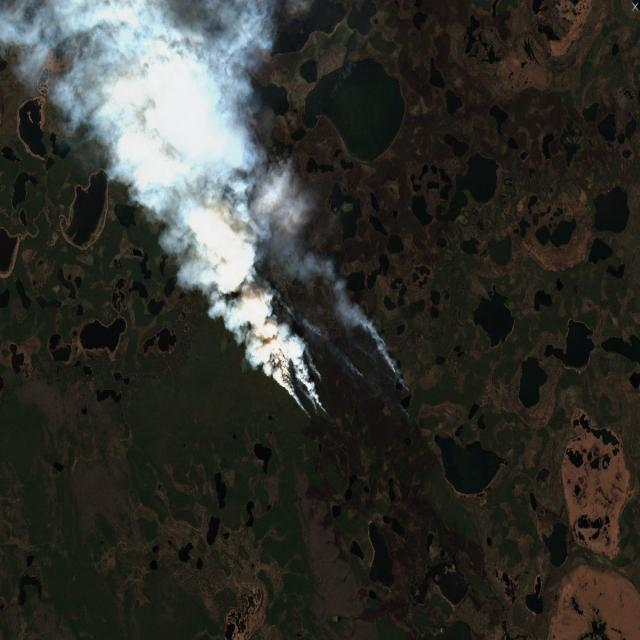fire: (229, 248, 414, 456), (381, 575, 406, 611)
